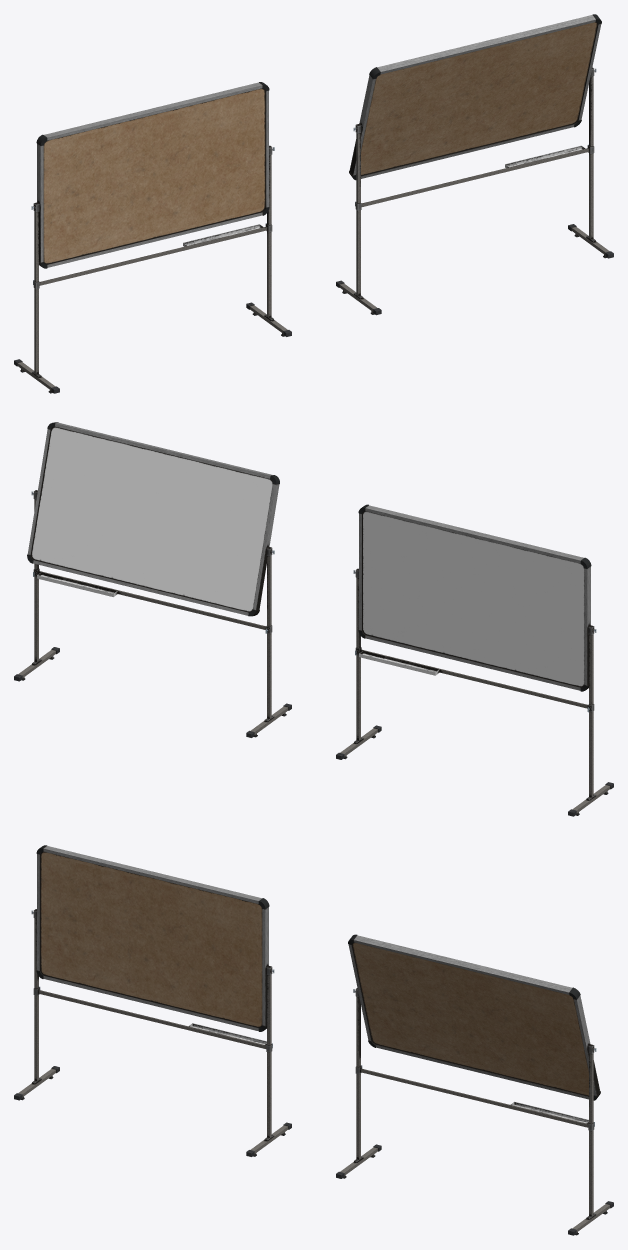
File: white_board.glb
The picture shows the model from 3 angles, top to bottom: view 1: azimuth 30°, elevation 25°; view 2: azimuth 150°, elevation 25°; view 3: azimuth 330°, elevation 25°; orthographic projection.
Parts seen in each view (by area): view 1: 02__0, 02_2__0, 01_3__0, 01_2__0; view 2: 02_2__0, 02__0, 01_2__0, 01_3__0; view 3: 02__0, 02_2__0, 01_3__0, 01_2__0.
Boxes of the visible parts, <box> form: 02__0: <box>36,82,269,268</box>; 02_2__0: <box>349,14,601,180</box>; 01_3__0: <box>336,67,613,315</box>; 01_2__0: <box>14,145,291,393</box>; 02_2__0: <box>27,422,279,616</box>; 02__0: <box>358,504,591,691</box>; 01_2__0: <box>336,568,613,816</box>; 01_3__0: <box>14,490,291,737</box>; 02__0: <box>36,845,269,1031</box>; 02_2__0: <box>348,934,600,1100</box>; 01_3__0: <box>336,988,613,1235</box>; 01_2__0: <box>14,909,291,1156</box>.
Size of the model in its own units: 727 by 300 by 89.83.
1 material, 1 textured.
